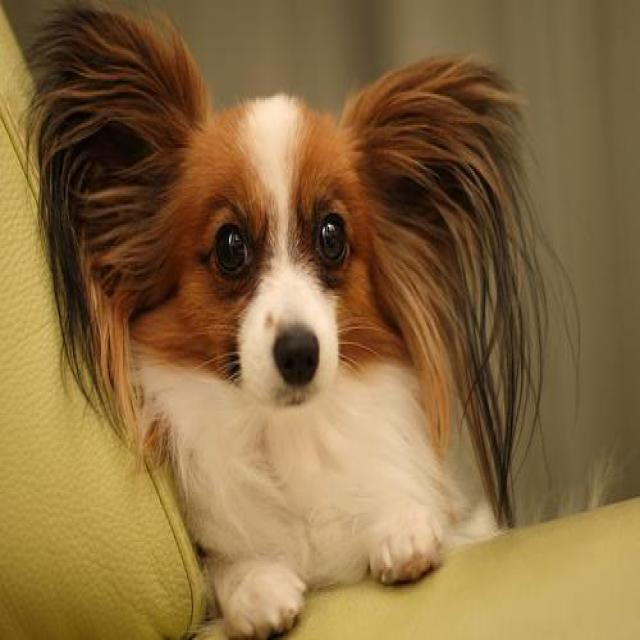papillon: (10, 4, 588, 638)
